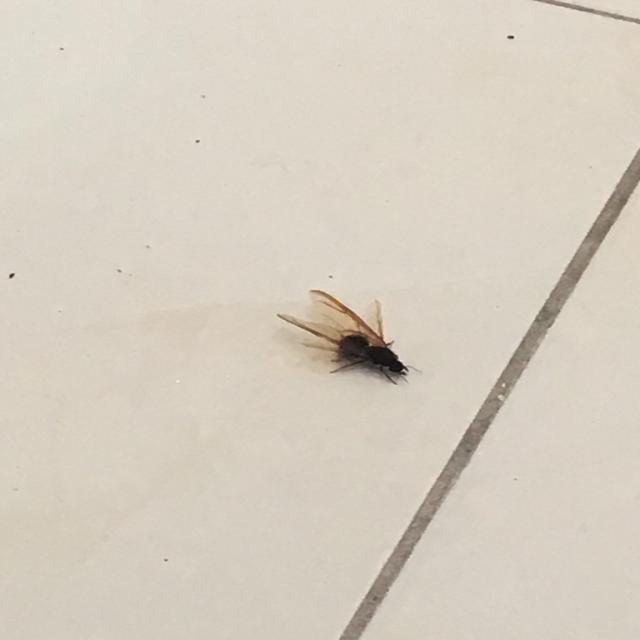Alive-Female-Alate: (275, 286, 424, 388)
